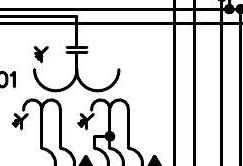115_cvt_3p: (11, 46, 131, 131)
